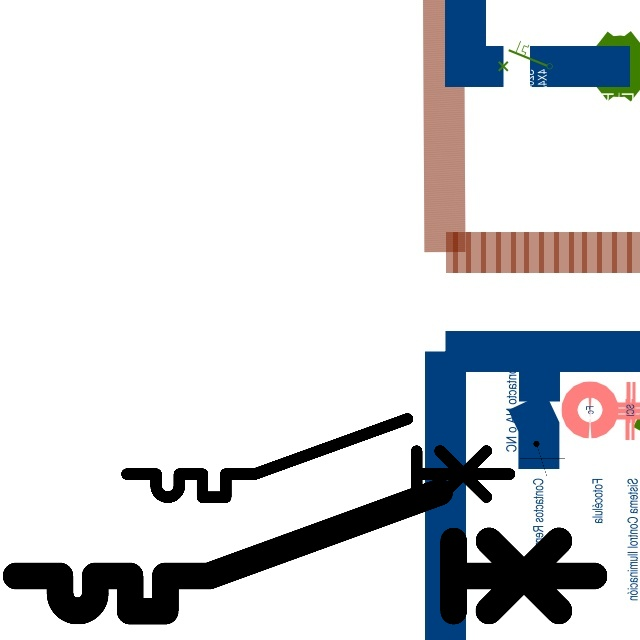interruptor_termomagnetico: (1, 477, 609, 626), (117, 409, 519, 507)
